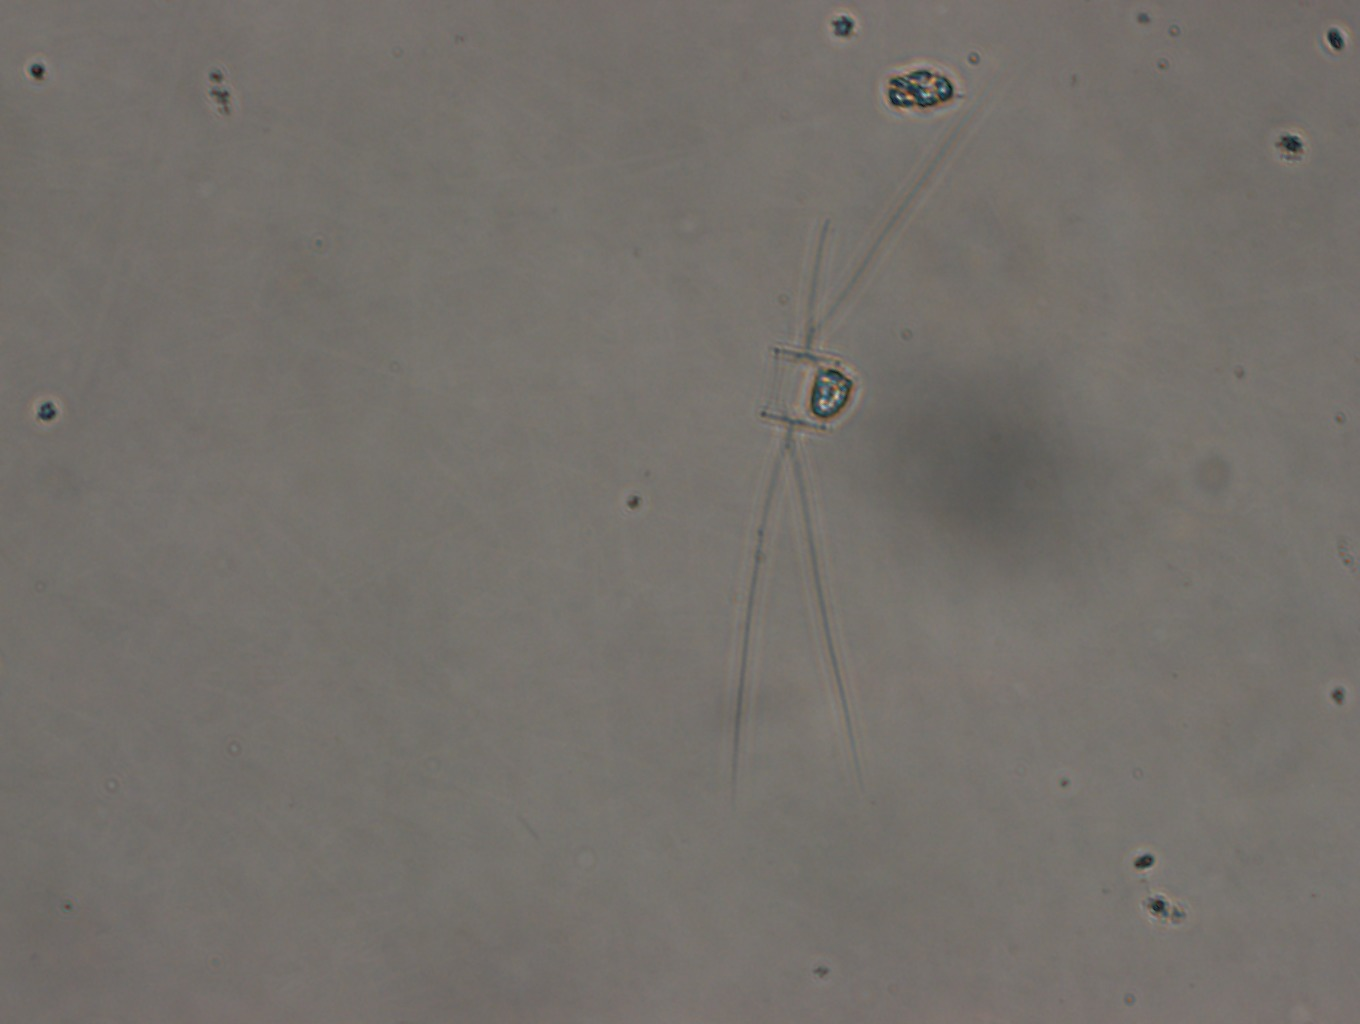chaetoceros: (732, 67, 1005, 792)
